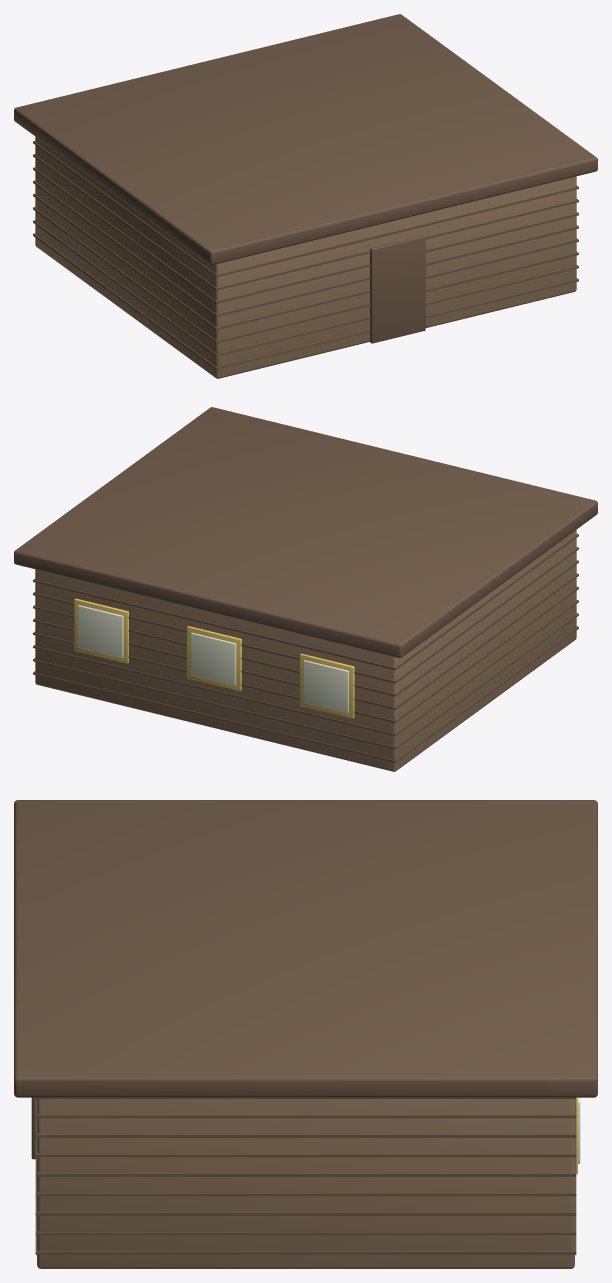
Rendered from deckhouse.glb.
The picture shows the model from 3 angles, top to bottom: view 1: azimuth 30°, elevation 25°; view 2: azimuth 150°, elevation 25°; view 3: azimuth 270°, elevation 25°; orthographic projection. The views are drawn at different scales.
Parts seen in each view (by area): view 1: roof, walls, door, plank7, plank6, plank5, plank3, plank4, plank0, plank1, plank2; view 2: roof, walls, win2, win1, win0, plank7, plank0, plank1, plank2, plank6, plank3, plank5 (+4 smaller); view 3: roof, walls, plank1, plank3, plank5, plank7, plank0, plank2, plank4, plank6, plank8.
Boxes of the visible parts, box(x1,y1,x2,y2) form: roof: box(14, 14, 597, 264); walls: box(35, 137, 576, 378); door: box(370, 235, 425, 343); plank7: box(33, 141, 578, 277); plank6: box(33, 154, 578, 290); plank5: box(33, 167, 578, 303); plank3: box(33, 193, 578, 330); plank4: box(33, 180, 578, 316); plank0: box(33, 233, 578, 369); plank1: box(33, 220, 578, 356); plank2: box(33, 207, 578, 343); roof: box(14, 407, 597, 657); walls: box(35, 530, 576, 771); win2: box(78, 605, 123, 658); win1: box(191, 632, 236, 685); win0: box(303, 660, 348, 713); plank7: box(33, 534, 578, 670); plank0: box(33, 626, 578, 762); plank1: box(33, 613, 578, 749); plank2: box(33, 600, 578, 736); plank6: box(33, 547, 578, 683); plank3: box(33, 586, 578, 723); plank5: box(33, 560, 578, 696); roof: box(14, 800, 597, 1097); walls: box(37, 1099, 574, 1268); plank1: box(35, 1216, 576, 1235); plank3: box(35, 1177, 576, 1196); plank5: box(35, 1138, 576, 1157); plank7: box(35, 1099, 576, 1118); plank0: box(35, 1235, 576, 1254); plank2: box(35, 1196, 576, 1215); plank4: box(35, 1157, 576, 1176); plank6: box(35, 1118, 576, 1137); plank8: box(35, 1097, 576, 1098).
Size of the model in its own units: 8.6 by 2.9 by 7.6.
